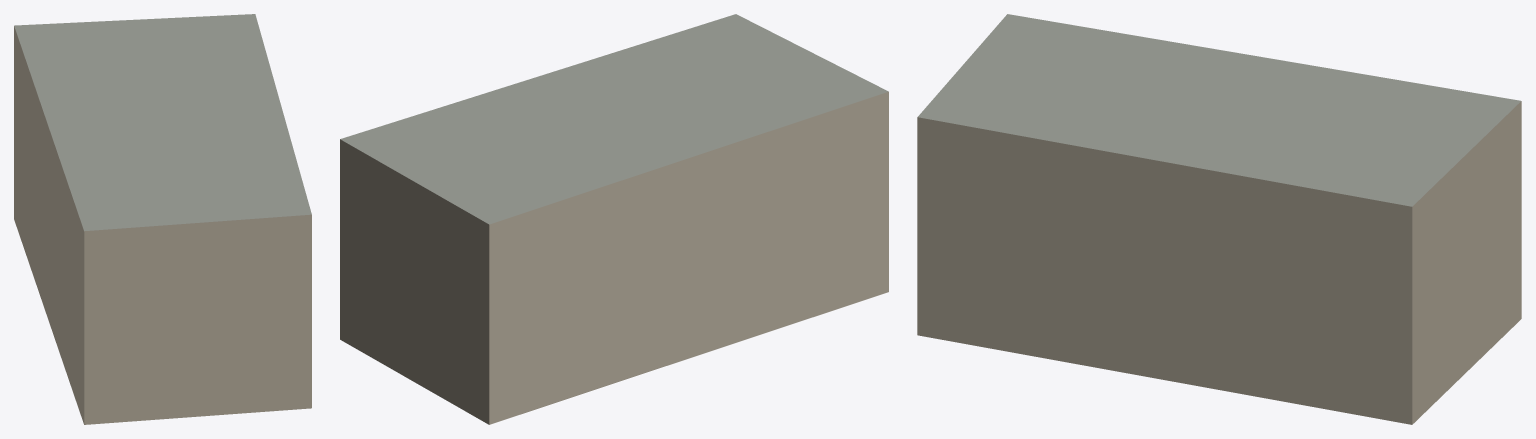
3 renders of one model, left to right at view 1: azimuth 30°, elevation 25°; view 2: azimuth 150°, elevation 25°; view 3: azimuth 270°, elevation 25°, orthographic. The views are drawn at different scales.
Parts seen in each view (by area): view 1: tuile; view 2: tuile; view 3: tuile.
Part boxes in pixels (box(x1,y1,x2,y2)): tuile: box(14, 14, 311, 424); tuile: box(340, 14, 888, 424); tuile: box(917, 14, 1521, 424).
Bounding box in the file's own units: 7.1 × 3.75 × 9.4.
